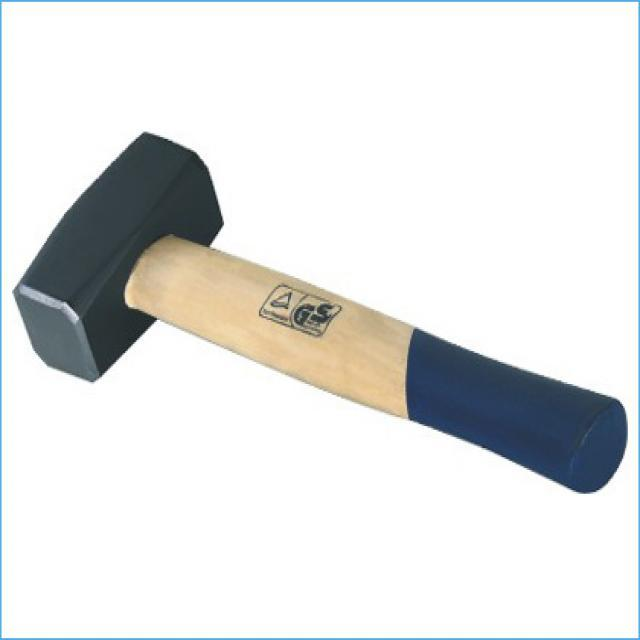hammer: (6, 112, 634, 503)
